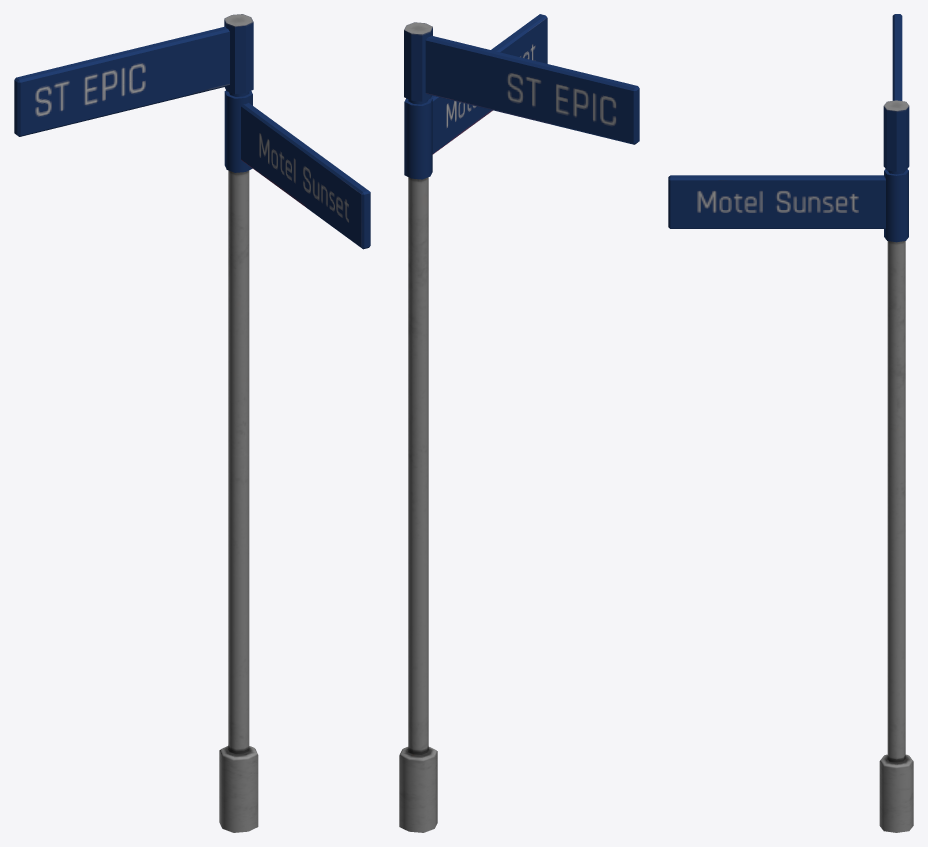
File: SM_Sign6.fbx
3 views of the same model, side by side, from view 1: azimuth 30°, elevation 25°; view 2: azimuth 150°, elevation 25°; view 3: azimuth 270°, elevation 25° (orthographic). The views are drawn at different scales.
Parts seen in each view (by area): view 1: SM_Sign6_LOD0; view 2: SM_Sign6_LOD0; view 3: SM_Sign6_LOD0.
Part boxes in pixels (x1=…): SM_Sign6_LOD0: x1=14, y1=14, x2=370, y2=832; SM_Sign6_LOD0: x1=399, y1=14, x2=639, y2=832; SM_Sign6_LOD0: x1=668, y1=14, x2=913, y2=832.
Size of the model in its own units: 80.73 by 80.16 by 260.
Materials: 1 (1 with a texture image).
